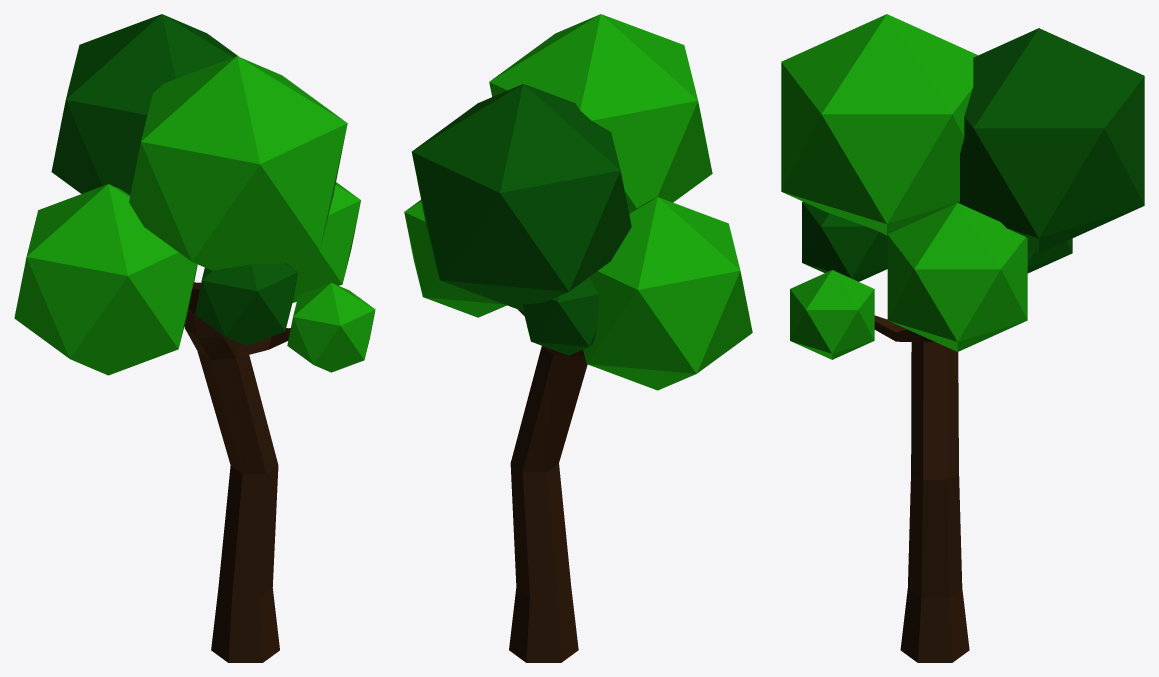
File: tree.obj
3 renders of one model, left to right at view 1: azimuth 30°, elevation 25°; view 2: azimuth 150°, elevation 25°; view 3: azimuth 270°, elevation 25°, orthographic.
Visible parts, largest first — view 1: Cylinder.005, Cylinder.006, Cylinder.001, Cylinder.002, Cylinder.007, Cylinder.008, Cylinder.003; view 2: Cylinder.002, Cylinder.006, Cylinder.005, Cylinder.001, Cylinder.004, Cylinder.003; view 3: Cylinder.005, Cylinder.002, Cylinder.001, Cylinder.003, Cylinder.008, Cylinder.007, Cylinder.004.
Part boxes in pixels (x1,y1,x2,y2): Cylinder.005: (129, 56, 347, 270); Cylinder.006: (14, 184, 197, 375); Cylinder.001: (184, 282, 290, 662); Cylinder.002: (51, 14, 238, 194); Cylinder.007: (195, 263, 298, 345); Cylinder.008: (287, 282, 375, 372); Cylinder.003: (286, 182, 360, 302); Cylinder.002: (412, 84, 631, 311); Cylinder.006: (583, 197, 752, 390); Cylinder.005: (489, 14, 712, 212); Cylinder.001: (509, 309, 587, 662); Cylinder.004: (523, 277, 598, 355); Cylinder.003: (404, 200, 506, 317); Cylinder.005: (781, 14, 977, 235); Cylinder.002: (958, 28, 1144, 253); Cylinder.001: (874, 315, 969, 662); Cylinder.003: (887, 202, 1027, 351); Cylinder.008: (790, 270, 874, 359); Cylinder.007: (802, 201, 887, 281); Cylinder.004: (1027, 238, 1072, 273).
Size of the model in its own units: 4.55 by 8.31 by 4.41.
